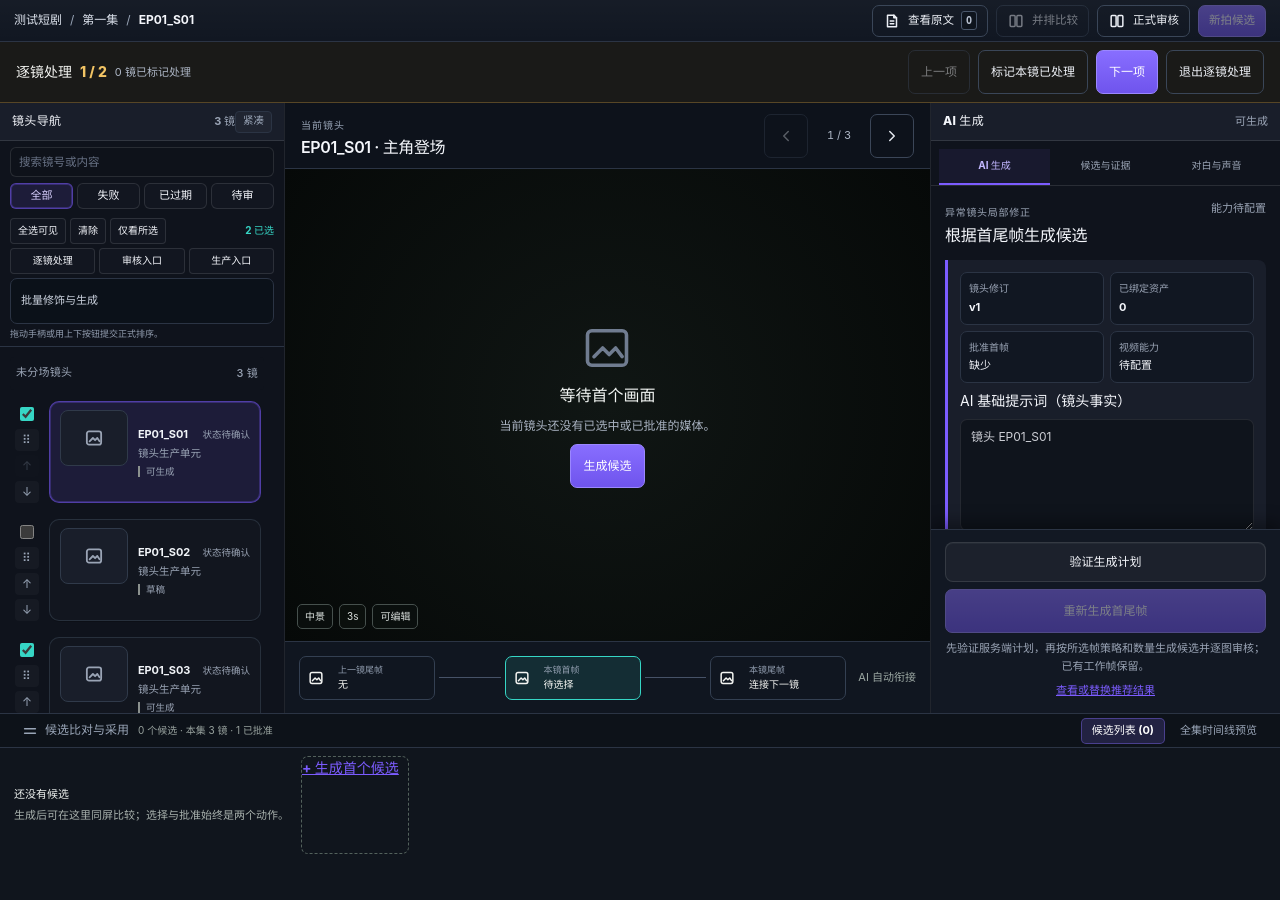
Test: DirectorDeskPage (PR-CUR-002) › restores a selected-shot batch from the URL and advances while preserving progress
This screenshot has width=1280, height=900.
expect the text "1 / 2" is shown: met, box x1=80 y1=61 x2=107 y2=83
Click the button "标记本镜已处理".
click(1033, 72)  # box x1=978 y1=50 x2=1088 y2=94
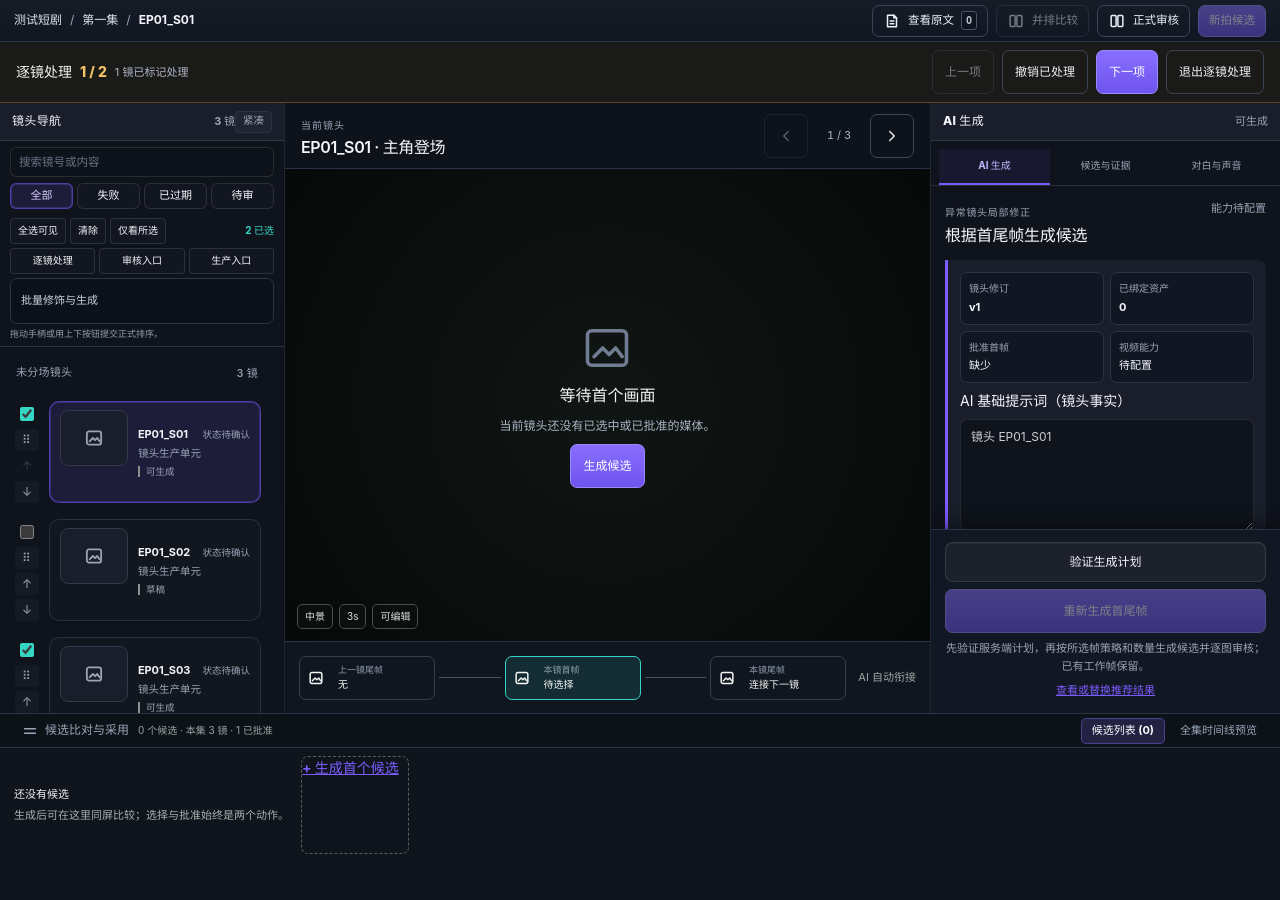
expect the text "1 镜已标记处理" is shown: met, box x1=115 y1=64 x2=188 y2=80
Click the button "下一项".
click(1127, 72)  # box x1=1096 y1=50 x2=1158 y2=94
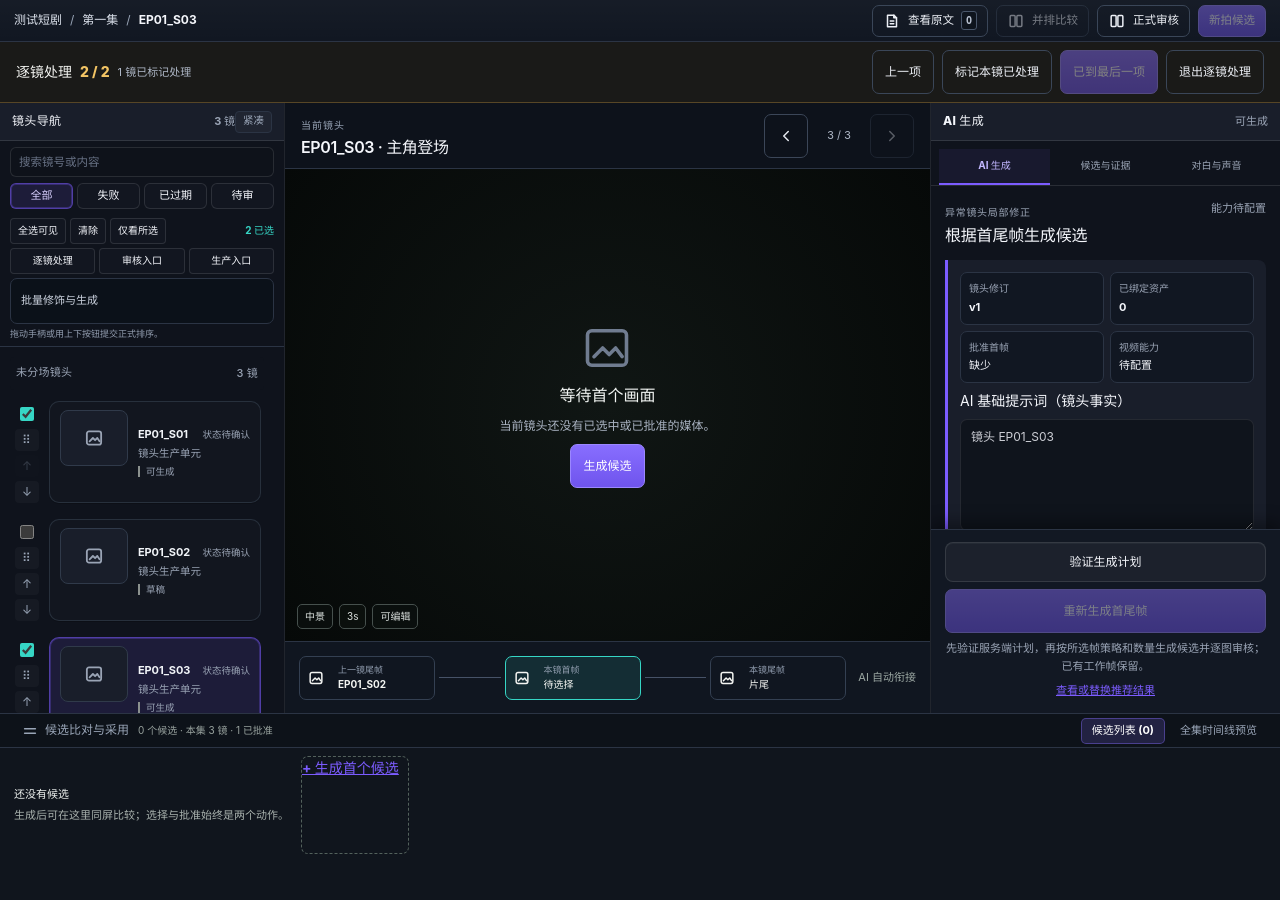
expect the text "1 镜已标记处理" is shown: met, box x1=118 y1=64 x2=191 y2=80
expect the heading "EP01_S03 · 主角登场" is shown: met, box x1=301 y1=137 x2=449 y2=158
expect the text "2 / 2" is shown: met, box x1=80 y1=61 x2=110 y2=83
